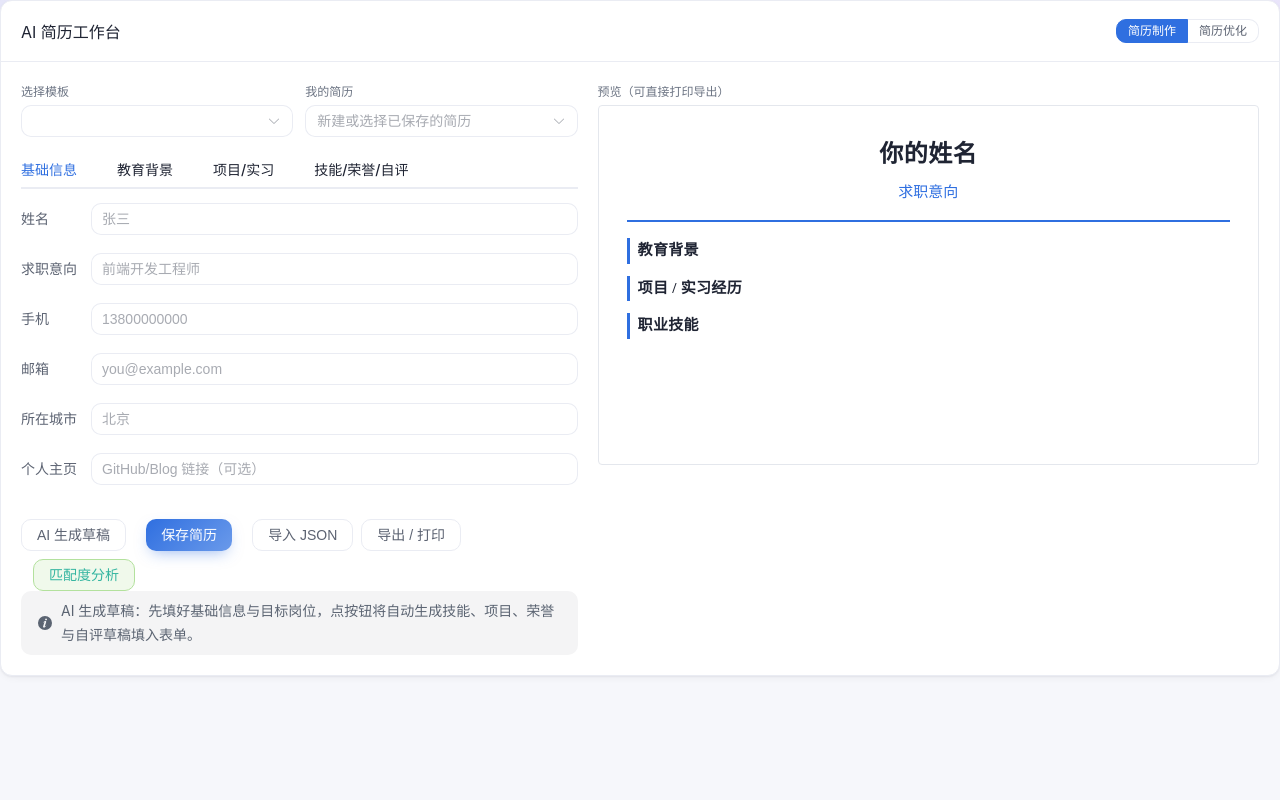
Test: 简历工作台 › 优化流程：提交后渲染完整报告
Click the radio button labelled "简历优化" at (1224, 31), box [1188,19,1259,43]
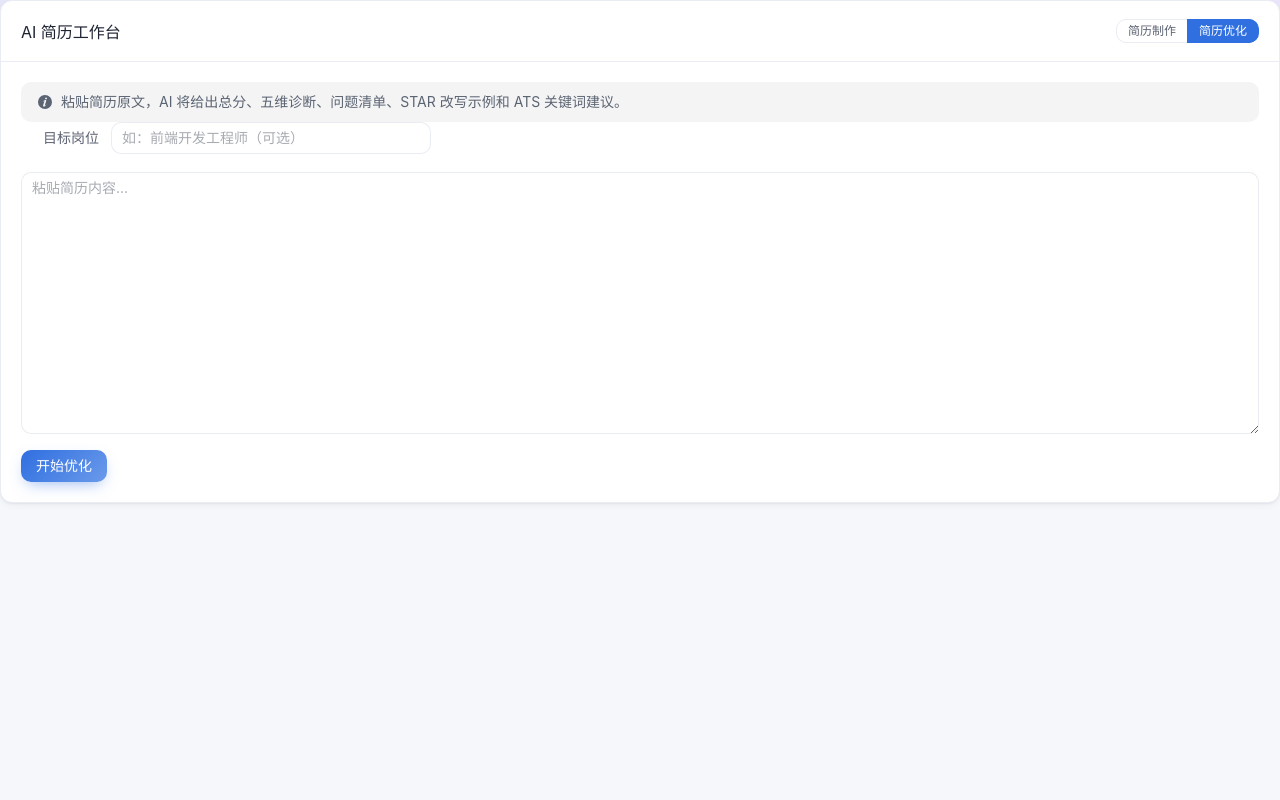
Type "我是计算机专业学生" into the text box with placeholder "粘贴简历内容..." at (640, 303), box [21,172,1259,434]
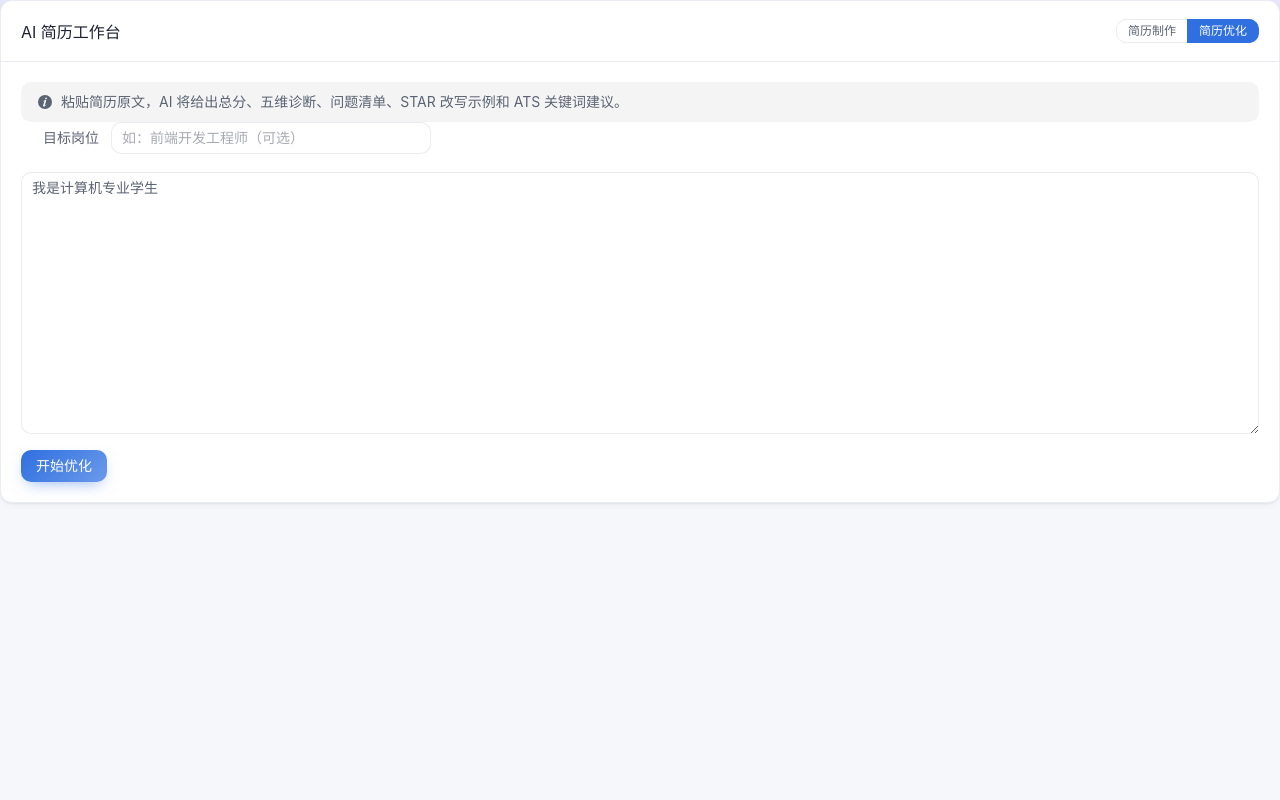
Click the button "开始优化" at (64, 466), box [21,450,107,482]
(page scrolled)
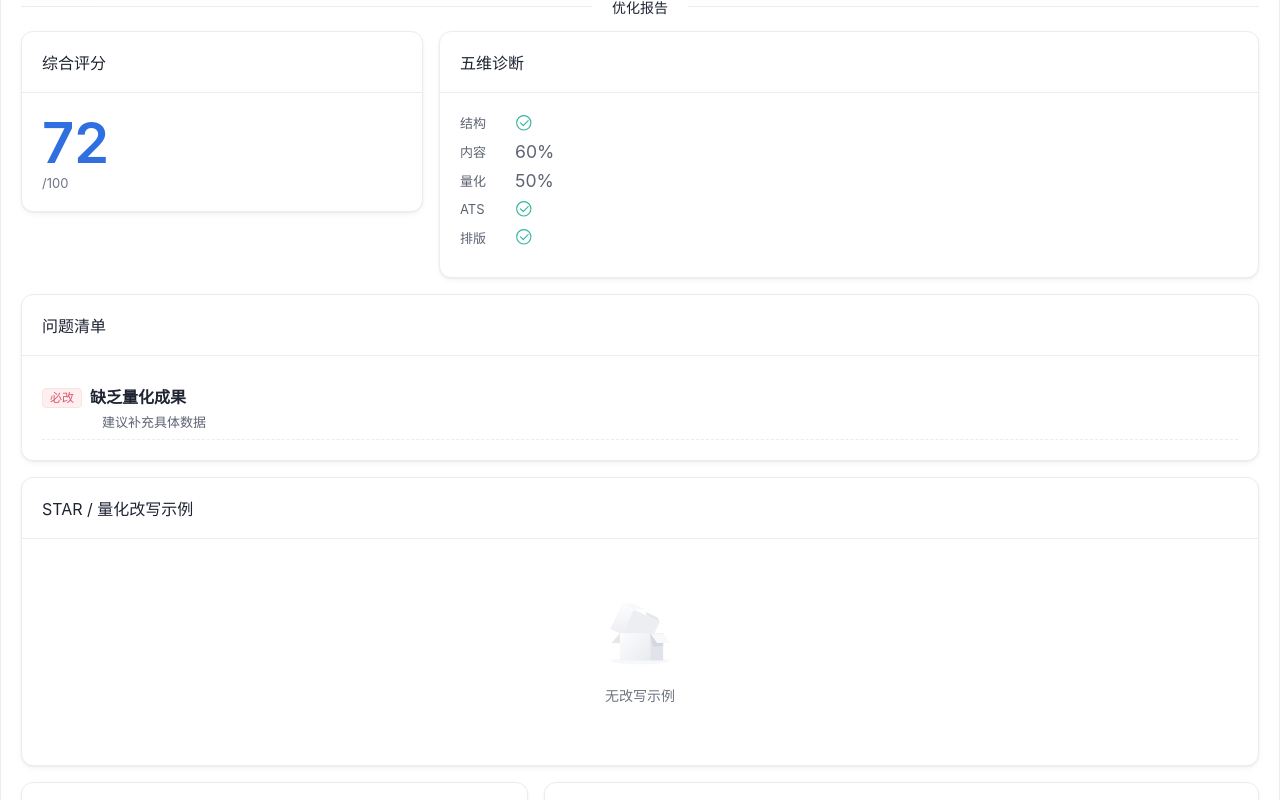
expect the text "72" is shown: met, box [42,109,109,177]
expect the text "缺乏量化成果" is shown: met, box [90,387,186,407]
expect the element showing "必改" is shown: met, box [42,388,82,408]
